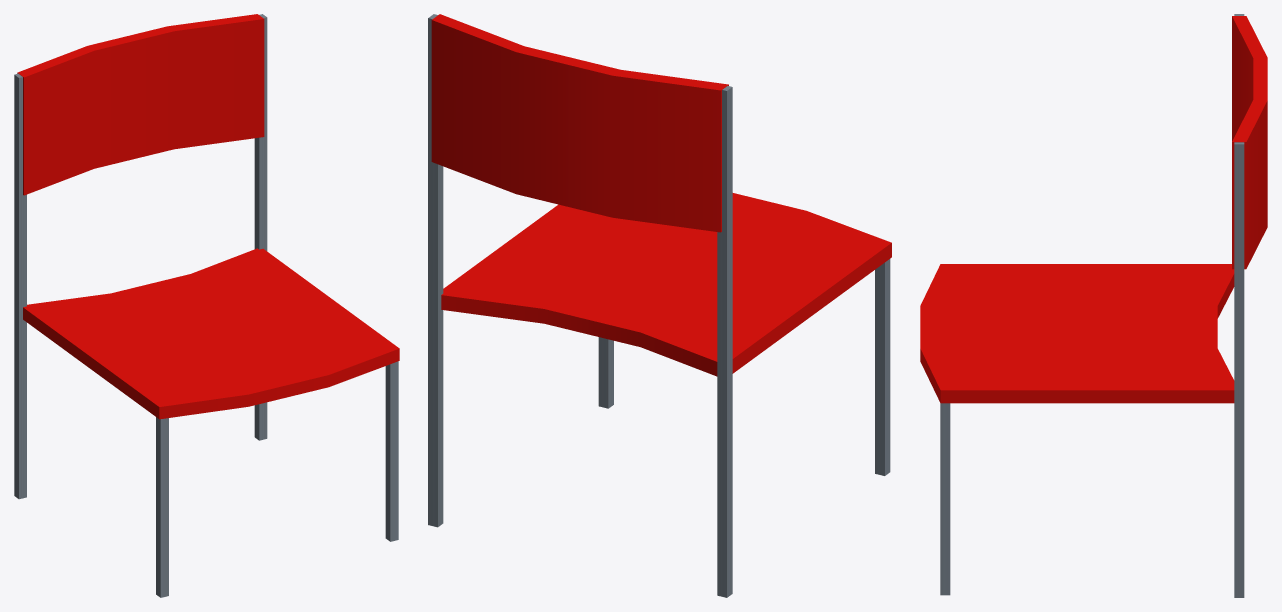
File: Silla1a.fbx
The picture shows the model from 3 angles, left to right: view 1: azimuth 30°, elevation 25°; view 2: azimuth 150°, elevation 25°; view 3: azimuth 270°, elevation 25°; orthographic projection. The views are drawn at different scales.
Visible parts, largest first — view 1: SillaBlanca; view 2: SillaBlanca; view 3: SillaBlanca.
Part boxes in pixels (x1,y1,x2,y2): SillaBlanca: (14, 14, 399, 597); SillaBlanca: (428, 14, 891, 597); SillaBlanca: (920, 14, 1267, 597).
Size of the model in its own units: 50.46 by 81.85 by 56.81.
